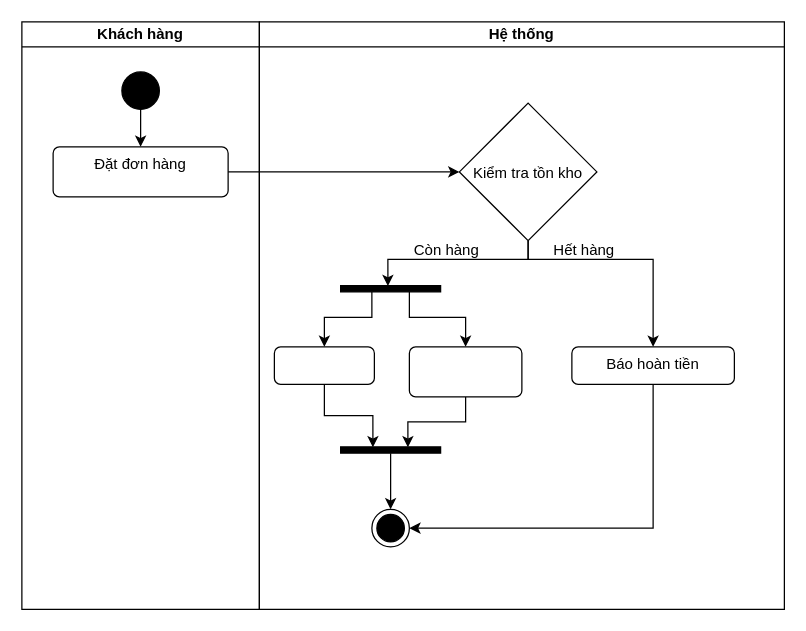
This 806x631 diagram has some shape labels left out. Here are the shapes that lost their labels. From the top down, the centre of each, then its label:
At point (323, 365): "Đóng gói".
At point (465, 371): "Gửi báo cáo xuất kho".
